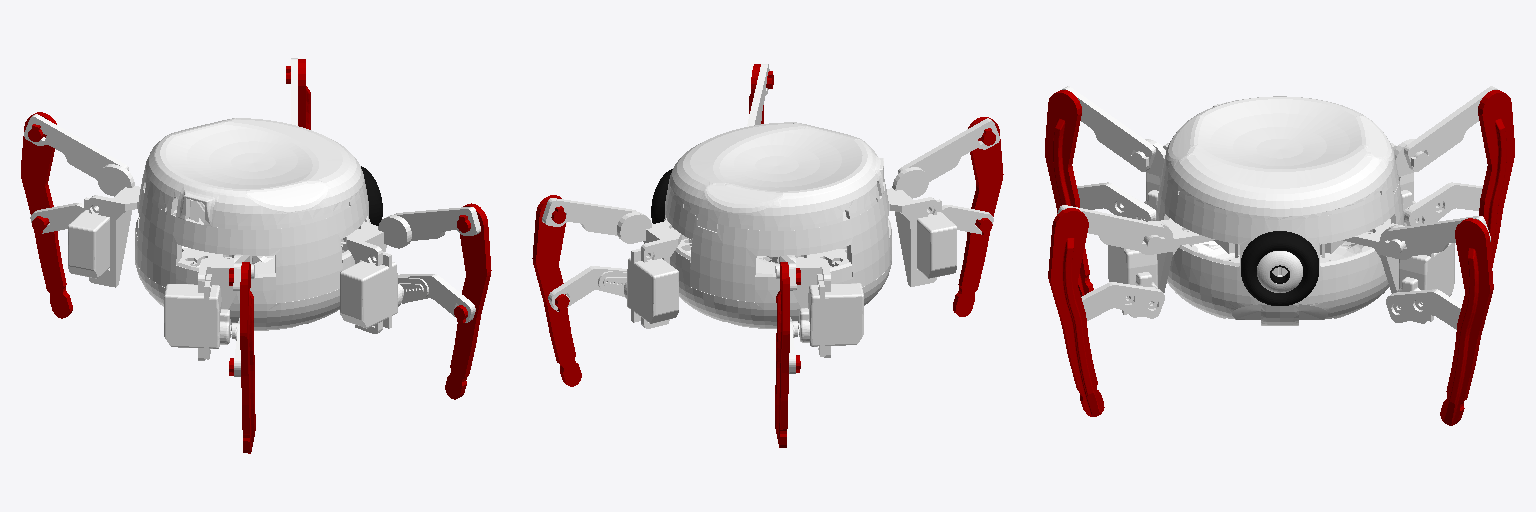
URDF robot description (piobs_simu):
<robot
  name="piobs_simu">
  <link
    name="base_link">
    <inertial>
      <origin
        xyz="-0.000150183923590687 1.69116954767376E-05 0.00723274427870838"
        rpy="0 0 0" />
      <mass
        value="0.0738859694947493" />
      <inertia
        ixx="8.5546067944523E-05"
        ixy="-1.06600940569947E-07"
        ixz="-8.67458695956049E-07"
        iyy="8.18362443634058E-05"
        iyz="3.9684721724115E-08"
        izz="0.00010541853902672" />
    </inertial>
    <visual>
      <origin
        xyz="0 0 0"
        rpy="0 0 0" />
      <geometry>
        <mesh
          filename="package://piobs_simu/meshes/base_link.STL" />
      </geometry>
      <material
        name="">
        <color
          rgba="1 1 1 1" />
      </material>
    </visual>
    <collision>
      <origin
        xyz="0 0 0"
        rpy="0 0 0" />
      <geometry>
        <mesh
          filename="package://piobs_simu/meshes/base_link.STL" />
      </geometry>
    </collision>
  </link>
  <link
    name="art1">
    <inertial>
      <origin
        xyz="0.0062378411825506 0.0277102239016137 -0.0156338015463188"
        rpy="0 0 0" />
      <mass
        value="0.0108144783273012" />
      <inertia
        ixx="2.00565738864332E-06"
        ixy="-1.70793666387837E-07"
        ixz="1.39902596356337E-07"
        iyy="1.61307577755607E-06"
        iyz="-5.1091854883014E-07"
        izz="1.39781914495636E-06" />
    </inertial>
    <visual>
      <origin
        xyz="0 0 0"
        rpy="0 0 0" />
      <geometry>
        <mesh
          filename="package://piobs_simu/meshes/art1.STL" />
      </geometry>
      <material
        name="">
        <color
          rgba="1 1 1 1" />
      </material>
    </visual>
    <collision>
      <origin
        xyz="0 0 0"
        rpy="0 0 0" />
      <geometry>
        <mesh
          filename="package://piobs_simu/meshes/art1.STL" />
      </geometry>
    </collision>
  </link>
  <joint
    name="Joint_art1"
    type="revolute">
    <origin
      xyz="0.023258 0.023889 0.0158"
      rpy="-1.9342E-16 2.949E-17 -6.0231E-15" />
    <parent
      link="base_link" />
    <child
      link="art1" />
    <axis
      xyz="0 0 -1" />
    <limit
      lower="-0.3"
      upper="1"
      effort="0"
      velocity="0" />
  </joint>
  <link
    name="inter1">
    <inertial>
      <origin
        xyz="0.00740343648010013 0.0107974598495289 0.00264747782092284"
        rpy="0 0 0" />
      <mass
        value="0.00135978929440388" />
      <inertia
        ixx="1.35503474513346E-07"
        ixy="7.26462673606028E-08"
        ixz="4.7797782102251E-09"
        iyy="6.57017703631588E-08"
        iyz="6.72775895356313E-09"
        izz="1.65488029781927E-07" />
    </inertial>
    <visual>
      <origin
        xyz="0 0 0"
        rpy="0 0 0" />
      <geometry>
        <mesh
          filename="package://piobs_simu/meshes/inter1.STL" />
      </geometry>
      <material
        name="">
        <color
          rgba="1 1 1 1" />
      </material>
    </visual>
    <collision>
      <origin
        xyz="0 0 0"
        rpy="0 0 0" />
      <geometry>
        <mesh
          filename="package://piobs_simu/meshes/inter1.STL" />
      </geometry>
    </collision>
  </link>
  <joint
    name="Joint_inter1"
    type="revolute">
    <origin
      xyz="0.021377 0.022876 -0.02515"
      rpy="6.9215E-16 -7.0777E-16 -2.982E-16" />
    <parent
      link="art1" />
    <child
      link="inter1" />
    <axis
      xyz="0.86603 -0.5 0" />
    <limit
      lower="-2.65"
      upper="0.95"
      effort="0"
      velocity="0" />
  </joint>
  <link
    name="leg1">
    <inertial>
      <origin
        xyz="0.00141462853397566 -0.000430263062171768 0.00683609703050882"
        rpy="0 0 0" />
      <mass
        value="0.00349858278339964" />
      <inertia
        ixx="2.20085310677661E-06"
        ixy="2.34643116992895E-08"
        ixz="1.00887381759997E-07"
        iyy="2.17074316536988E-06"
        iyz="2.26080118705019E-07"
        izz="7.71498616791453E-08" />
    </inertial>
    <visual>
      <origin
        xyz="0 0 0"
        rpy="0 0 0" />
      <geometry>
        <mesh
          filename="package://piobs_simu/meshes/leg1.STL" />
      </geometry>
      <material
        name="">
        <color
          rgba="0.752941176470588 0 0 1" />
      </material>
    </visual>
    <collision>
      <origin
        xyz="0 0 0"
        rpy="0 0 0" />
      <geometry>
        <mesh
          filename="package://piobs_simu/meshes/leg1.STL" />
      </geometry>
    </collision>
  </link>
  <joint
    name="Joint_leg1"
    type="revolute">
    <origin
      xyz="0.019098 0.027079 0"
      rpy="-1.5552E-15 1.5821E-15 2.0714E-15" />
    <parent
      link="inter1" />
    <child
      link="leg1" />
    <axis
      xyz="-0.86603 0.5 0" />
    <limit
      lower="-1.57"
      upper="1.57"
      effort="0"
      velocity="0" />
    <mimic joint="Joint_inter1" multiplier="-1.0" offset="0.0" />
  </joint>
  <link
    name="inter1h">
    <inertial>
      <origin
        xyz="0.00973454261047613 0.0138607223897888 0.00758536813275736"
        rpy="0 0 0" />
      <mass
        value="0.00130705655681447" />
      <inertia
        ixx="1.76237970120405E-07"
        ixy="7.77102178286575E-08"
        ixz="3.28405627718515E-08"
        iyy="8.65059397560856E-08"
        iyz="5.68815232700017E-08"
        izz="1.81424645563861E-07" />
    </inertial>
    <visual>
      <origin
        xyz="0 0 0"
        rpy="0 0 0" />
      <geometry>
        <mesh
          filename="package://piobs_simu/meshes/inter1h.STL" />
      </geometry>
      <material
        name="">
        <color
          rgba="1 1 1 1" />
      </material>
    </visual>
    <collision>
      <origin
        xyz="0 0 0"
        rpy="0 0 0" />
      <geometry>
        <mesh
          filename="package://piobs_simu/meshes/inter1h.STL" />
      </geometry>
    </collision>
  </link>
  <joint
    name="Joint_inter1h"
    type="revolute">
    <origin
      xyz="0.021377 0.022876 0.0018"
      rpy="2.3939E-16 -4.6838E-17 -2.7733E-15" />
    <parent
      link="art1" />
    <child
      link="inter1h" />
    <axis
      xyz="0.86603 -0.5 0" />
    <limit
      lower="-1.57"
      upper="1.57"
      effort="0"
      velocity="0" />
    <mimic joint="Joint_inter1" multiplier="-1.0" offset="0.0" />
  </joint>
  <link
    name="art2">
    <inertial>
      <origin
        xyz="-0.0224777663889105 0.0173642523652234 -0.0156338039059797"
        rpy="0 0 0" />
      <mass
        value="0.0108144806208301" />
      <inertia
        ixx="1.55235820224944E-06"
        ixy="-4.05834318783446E-08"
        ixz="5.22174875344558E-07"
        iyy="2.06637574050955E-06"
        iyz="-8.91289182685685E-08"
        izz="1.39781931097156E-06" />
    </inertial>
    <visual>
      <origin
        xyz="0 0 0"
        rpy="0 0 0" />
      <geometry>
        <mesh
          filename="package://piobs_simu/meshes/art2.STL" />
      </geometry>
      <material
        name="">
        <color
          rgba="1 1 1 1" />
      </material>
    </visual>
    <collision>
      <origin
        xyz="0 0 0"
        rpy="0 0 0" />
      <geometry>
        <mesh
          filename="package://piobs_simu/meshes/art2.STL" />
      </geometry>
    </collision>
  </link>
  <joint
    name="Joint_art2"
    type="revolute">
    <origin
      xyz="-0.023889 0.023258 0.0158"
      rpy="1.5439E-15 1.7521E-15 -6.0631E-15" />
    <parent
      link="base_link" />
    <child
      link="art2" />
    <axis
      xyz="0 0 -1" />
    <limit
      lower="-0.7"
      upper="0.65"
      effort="0"
      velocity="0" />
  </joint>
  <link
    name="inter2">
    <inertial>
      <origin
        xyz="-0.00665699240608806 0.0112729910450089 0.00264747684359977"
        rpy="0 0 0" />
      <mass
        value="0.00135978987670813" />
      <inertia
        ixx="1.33819137121723E-07"
        ixy="-7.34317564845056E-08"
        ixz="-4.07740451776354E-09"
        iyy="6.73862089395131E-08"
        iyz="7.17523793144052E-09"
        izz="1.65488117690615E-07" />
    </inertial>
    <visual>
      <origin
        xyz="0 0 0"
        rpy="0 0 0" />
      <geometry>
        <mesh
          filename="package://piobs_simu/meshes/inter2.STL" />
      </geometry>
      <material
        name="">
        <color
          rgba="1 1 1 1" />
      </material>
    </visual>
    <collision>
      <origin
        xyz="0 0 0"
        rpy="0 0 0" />
      <geometry>
        <mesh
          filename="package://piobs_simu/meshes/inter2.STL" />
      </geometry>
    </collision>
  </link>
  <joint
    name="Joint_inter2"
    type="revolute">
    <origin
      xyz="-0.011699 0.029042 -0.02515"
      rpy="-2.4329E-15 -1.7451E-15 1.4339E-17" />
    <parent
      link="art2" />
    <child
      link="inter2" />
    <axis
      xyz="0.81915 0.57358 0" />
    <limit
      lower="-2.65"
      upper="0.95"
      effort="0"
      velocity="0" />
  </joint>
  <link
    name="leg2">
    <inertial>
      <origin
        xyz="0.000987798635406129 0.00110025176352489 0.00683609405525077"
        rpy="0 0 0" />
      <mass
        value="0.00349858320009664" />
      <inertia
        ixx="2.19409600530062E-06"
        ixy="-2.66153433322379E-08"
        ixz="-1.62261332220827E-07"
        iyy="2.17750089051935E-06"
        iyz="1.86980606695749E-07"
        izz="7.71498550031368E-08" />
    </inertial>
    <visual>
      <origin
        xyz="0 0 0"
        rpy="0 0 0" />
      <geometry>
        <mesh
          filename="package://piobs_simu/meshes/leg2.STL" />
      </geometry>
      <material
        name="">
        <color
          rgba="0.752941176470588 0 0 1" />
      </material>
    </visual>
    <collision>
      <origin
        xyz="0 0 0"
        rpy="0 0 0" />
      <geometry>
        <mesh
          filename="package://piobs_simu/meshes/leg2.STL" />
      </geometry>
    </collision>
  </link>
  <joint
    name="Joint_leg2"
    type="revolute">
    <origin
      xyz="-0.016471 0.028753 0"
      rpy="4.0506E-16 -1.3531E-16 -4.0686E-16" />
    <parent
      link="inter2" />
    <child
      link="leg2" />
    <axis
      xyz="-0.81915 -0.57358 0" />
    <limit
      lower="-1.57"
      upper="1.57"
      effort="0"
      velocity="0" />
    <mimic joint="Joint_inter2" multiplier="-1.0" offset="0.0" />
  </joint>
  <link
    name="inter2h">
    <inertial>
      <origin
        xyz="-0.00844808515893885 0.0146802861739574 0.00758536813275734"
        rpy="0 0 0" />
      <mass
        value="0.00130705655681447" />
      <inertia
        ixx="1.62062116824351E-07"
        ixy="-8.4320526781489E-08"
        ixz="-3.76731459248835E-08"
        iyy="1.0068179305214E-07"
        iyz="5.38028282603258E-08"
        izz="1.81424645563861E-07" />
    </inertial>
    <visual>
      <origin
        xyz="0 0 0"
        rpy="0 0 0" />
      <geometry>
        <mesh
          filename="package://piobs_simu/meshes/inter2h.STL" />
      </geometry>
      <material
        name="">
        <color
          rgba="1 1 1 1" />
      </material>
    </visual>
    <collision>
      <origin
        xyz="0 0 0"
        rpy="0 0 0" />
      <geometry>
        <mesh
          filename="package://piobs_simu/meshes/inter2h.STL" />
      </geometry>
    </collision>
  </link>
  <joint
    name="Joint_inter2h"
    type="revolute">
    <origin
      xyz="-0.011699 0.029042 0.0018"
      rpy="-9.7058E-16 -1.7035E-15 1.3741E-15" />
    <parent
      link="art2" />
    <child
      link="inter2h" />
    <axis
      xyz="0.81915 0.57358 0" />
    <limit
      lower="-1.57"
      upper="1.57"
      effort="0"
      velocity="0" />
      <mimic joint="Joint_inter2" multiplier="-1.0" offset="0.0" />
  </joint>
  <link
    name="art3">
    <inertial>
      <origin
        xyz="-0.0224777650381663 -0.0173642506579196 -0.0156338039185827"
        rpy="0 0 0" />
      <mass
        value="0.010814480540916" />
      <inertia
        ixx="1.55235834142788E-06"
        ixy="4.05832763833904E-08"
        ixz="5.22174814196587E-07"
        iyy="2.06637543468729E-06"
        iyz="8.91288409759164E-08"
        izz="1.39781914283596E-06" />
    </inertial>
    <visual>
      <origin
        xyz="0 0 0"
        rpy="0 0 0" />
      <geometry>
        <mesh
          filename="package://piobs_simu/meshes/art3.STL" />
      </geometry>
      <material
        name="">
        <color
          rgba="1 1 1 1" />
      </material>
    </visual>
    <collision>
      <origin
        xyz="0 0 0"
        rpy="0 0 0" />
      <geometry>
        <mesh
          filename="package://piobs_simu/meshes/art3.STL" />
      </geometry>
    </collision>
  </link>
  <joint
    name="Joint_art3"
    type="revolute">
    <origin
      xyz="-0.023889 -0.023258 0.0158"
      rpy="3.6256E-15 3.8389E-15 -6.0501E-15" />
    <parent
      link="base_link" />
    <child
      link="art3" />
    <axis
      xyz="0 0 1" />
    <limit
      lower="-0.7"
      upper="0.65"
      effort="0"
      velocity="0" />
  </joint>
  <link
    name="inter3">
    <inertial>
      <origin
        xyz="-0.00665699379083021 -0.0112729942141482 0.00264747749005476"
        rpy="0 0 0" />
      <mass
        value="0.0013597894910097" />
      <inertia
        ixx="1.33819084087701E-07"
        ixy="7.34317351534421E-08"
        ixz="-4.07740069579114E-09"
        iyy="6.73861951808813E-08"
        iyz="-7.17522875082714E-09"
        izz="1.65488059681542E-07" />
    </inertial>
    <visual>
      <origin
        xyz="0 0 0"
        rpy="0 0 0" />
      <geometry>
        <mesh
          filename="package://piobs_simu/meshes/inter3.STL" />
      </geometry>
      <material
        name="">
        <color
          rgba="1 1 1 1" />
      </material>
    </visual>
    <collision>
      <origin
        xyz="0 0 0"
        rpy="0 0 0" />
      <geometry>
        <mesh
          filename="package://piobs_simu/meshes/inter3.STL" />
      </geometry>
    </collision>
  </link>
  <joint
    name="Joint_inter3"
    type="revolute">
    <origin
      xyz="-0.011699 -0.029042 -0.02515"
      rpy="-5.7176E-15 -9.3502E-16 -1.4961E-15" />
    <parent
      link="art3" />
    <child
      link="inter3" />
    <axis
      xyz="-0.81915 0.57358 0" />
    <limit
      lower="-2.65"
      upper="0.95"
      effort="0"
      velocity="0" />
  </joint>
  <link
    name="leg3">
    <inertial>
      <origin
        xyz="0.000991293190433291 -0.00109536177534356 0.006799313222049"
        rpy="0 0 0" />
      <mass
        value="0.00350190561973382" />
      <inertia
        ixx="2.19920911817852E-06"
        ixy="2.66931162252511E-08"
        ixz="-1.62729982465043E-07"
        iyy="2.18256011627768E-06"
        iyz="-1.87636416525044E-07"
        izz="7.73194742404063E-08" />
    </inertial>
    <visual>
      <origin
        xyz="0 0 0"
        rpy="0 0 0" />
      <geometry>
        <mesh
          filename="package://piobs_simu/meshes/leg3.STL" />
      </geometry>
      <material
        name="">
        <color
          rgba="0.752941176470588 0 0 1" />
      </material>
    </visual>
    <collision>
      <origin
        xyz="0 0 0"
        rpy="0 0 0" />
      <geometry>
        <mesh
          filename="package://piobs_simu/meshes/leg3.STL" />
      </geometry>
    </collision>
  </link>
  <joint
    name="Joint_leg3"
    type="revolute">
    <origin
      xyz="-0.016471 -0.028753 0"
      rpy="2.2586E-15 -3.4295E-15 2.3548E-15" />
    <parent
      link="inter3" />
    <child
      link="leg3" />
    <axis
      xyz="0.81915 -0.57358 0" />
    <limit
      lower="-1.57"
      upper="1.57"
      effort="0"
      velocity="0" />
    <mimic joint="Joint_inter3" multiplier="-1.0" offset="0.0" />
  </joint>
  <link
    name="inter3h">
    <inertial>
      <origin
        xyz="-0.0109055412918058 -0.0129595568649043 0.00758536813275726"
        rpy="0 0 0" />
      <mass
        value="0.00130705655681447" />
      <inertia
        ixx="1.62062116824352E-07"
        ixy="8.43205267814889E-08"
        ixz="-3.76731459248828E-08"
        iyy="1.00681793052138E-07"
        iyz="-5.38028282603255E-08"
        izz="1.81424645563862E-07" />
    </inertial>
    <visual>
      <origin
        xyz="0 0 0"
        rpy="0 0 0" />
      <geometry>
        <mesh
          filename="package://piobs_simu/meshes/inter3h.STL" />
      </geometry>
      <material
        name="">
        <color
          rgba="1 1 1 1" />
      </material>
    </visual>
    <collision>
      <origin
        xyz="0 0 0"
        rpy="0 0 0" />
      <geometry>
        <mesh
          filename="package://piobs_simu/meshes/inter3h.STL" />
      </geometry>
    </collision>
  </link>
  <joint
    name="Joint_inter3h"
    type="revolute">
    <origin
      xyz="-0.0092411 -0.030763 0.0018"
      rpy="-3.5623E-15 -3.8771E-15 -3.7513E-15" />
    <parent
      link="art3" />
    <child
      link="inter3h" />
    <axis
      xyz="-0.81915 0.57358 0" />
    <limit
      lower="-1.57"
      upper="1.57"
      effort="0"
      velocity="0" />
      <mimic joint="Joint_inter3" multiplier="-1.0" offset="0.0" />
  </joint>
  <link
    name="art4">
    <inertial>
      <origin
        xyz="0.00133124478792326 -0.0283724322273375 -0.0156338039142436"
        rpy="0 0 0" />
      <mass
        value="0.010814480720339" />
      <inertia
        ixx="1.93540479225721E-06"
        ixy="2.27628752214218E-07"
        ixz="2.26497114294371E-07"
        iyy="1.68332900286192E-06"
        iyz="4.78862762155124E-07"
        izz="1.39781916118468E-06" />
    </inertial>
    <visual>
      <origin
        xyz="0 0 0"
        rpy="0 0 0" />
      <geometry>
        <mesh
          filename="package://piobs_simu/meshes/art4.STL" />
      </geometry>
      <material
        name="">
        <color
          rgba="1 1 1 1" />
      </material>
    </visual>
    <collision>
      <origin
        xyz="0 0 0"
        rpy="0 0 0" />
      <geometry>
        <mesh
          filename="package://piobs_simu/meshes/art4.STL" />
      </geometry>
    </collision>
  </link>
  <joint
    name="Joint_art4"
    type="revolute">
    <origin
      xyz="0.023258 -0.023889 0.0158"
      rpy="-3.6603E-16 1.8735E-16 -6.0242E-15" />
    <parent
      link="base_link" />
    <child
      link="art4" />
    <axis
      xyz="0 0 1" />
    <limit
      lower="-0.2"
      upper="1.15"
      effort="0"
      velocity="0" />
  </joint>
  <link
    name="inter4">
    <inertial>
      <origin
        xyz="0.005416 -0.011919 0.0026475"
        rpy="0 0 0" />
      <mass
        value="0.0013598" />
      <inertia
        ixx="1.5825E-07"
        ixy="-5.6328E-08"
        ixz="3.5389E-09"
        iyy="4.296E-08"
        iyz="-7.4555E-09"
        izz="1.6549E-07" />
    </inertial>
    <visual>
      <origin
        xyz="0 0 0"
        rpy="0 0 0" />
      <geometry>
        <mesh
          filename="package://piobs_simu/meshes/inter4.STL" />
      </geometry>
      <material
        name="">
        <color
          rgba="1 1 1 1" />
      </material>
    </visual>
    <collision>
      <origin
        xyz="0 0 0"
        rpy="0 0 0" />
      <geometry>
        <mesh
          filename="package://piobs_simu/meshes/inter4.STL" />
      </geometry>
    </collision>
  </link>
  <joint
    name="Joint_inter4"
    type="revolute">
    <origin
      xyz="0.01708 -0.026241 -0.02515"
      rpy="3.5128E-16 -6.8001E-16 1.423E-15" />
    <parent
      link="art4" />
    <child
      link="inter4" />
    <axis
      xyz="-0.93969 -0.34202 0" />
    <limit
      lower="-2.65"
      upper="0.95"
      effort="0"
      velocity="0" />
  </joint>
  <link
    name="leg4">
    <inertial>
      <origin
        xyz="0.0014658 0.00018375 0.0067993"
        rpy="0 0 0" />
      <mass
        value="0.0035019" />
      <inertia
        ixx="2.2131E-06"
        ixy="-1.6952E-08"
        ixz="6.0365E-08"
        iyy="2.1686E-06"
        iyz="-2.4092E-07"
        izz="7.732E-08" />
    </inertial>
    <visual>
      <origin
        xyz="0 0 0"
        rpy="0 0 0" />
      <geometry>
        <mesh
          filename="package://piobs_simu/meshes/leg4.STL" />
      </geometry>
      <material
        name="">
        <color
          rgba="0.75294 0 0 1" />
      </material>
    </visual>
    <collision>
      <origin
        xyz="0 0 0"
        rpy="0 0 0" />
      <geometry>
        <mesh
          filename="package://piobs_simu/meshes/leg4.STL" />
      </geometry>
    </collision>
  </link>
  <joint
    name="Joint_leg4"
    type="revolute">
    <origin
      xyz="0.014106 -0.029984 0"
      rpy="-1.2499E-15 8.5869E-16 -1.4731E-15" />
    <parent
      link="inter4" />
    <child
      link="leg4" />
    <axis
      xyz="0.93969 0.34202 0" />
    <limit
      lower="-1.57"
      upper="1.57"
      effort="0"
      velocity="0" />
    <mimic joint="Joint_inter4" multiplier="-1.0" offset="0.0" />
  </joint>
  <link
    name="inter4h">
    <inertial>
      <origin
        xyz="0.0071798 -0.015341 0.0075854"
        rpy="0 0 0" />
      <mass
        value="0.0013071" />
      <inertia
        ixx="2.0011E-07"
        ixy="-5.7679E-08"
        ixz="2.2464E-08"
        iyy="6.2633E-08"
        iyz="-6.172E-08"
        izz="1.8142E-07" />
    </inertial>
    <visual>
      <origin
        xyz="0 0 0"
        rpy="0 0 0" />
      <geometry>
        <mesh
          filename="package://piobs_simu/meshes/inter4h.STL" />
      </geometry>
      <material
        name="">
        <color
          rgba="1 1 1 1" />
      </material>
    </visual>
    <collision>
      <origin
        xyz="0 0 0"
        rpy="0 0 0" />
      <geometry>
        <mesh
          filename="package://piobs_simu/meshes/inter4h.STL" />
      </geometry>
    </collision>
  </link>
  <joint
    name="Joint_inter4h"
    type="revolute">
    <origin
      xyz="0.01708 -0.026241 0.0018"
      rpy="4.7271E-16 -1.7174E-16 -1.3841E-15" />
    <parent
      link="art4" />
    <child
      link="inter4h" />
    <axis
      xyz="-0.93969 -0.34202 0" />
    <limit
      lower="-1.57"
      upper="1.57"
      effort="0"
      velocity="0" />
      <mimic joint="Joint_inter4" multiplier="-1.0" offset="0.0" />
  </joint>
  <link
    name="optic">
    <inertial>
      <origin
        xyz="-0.0044339 1.3021E-08 -0.00016633"
        rpy="0 0 0" />
      <mass
        value="0.0030505" />
      <inertia
        ixx="4.6741E-07"
        ixy="-2.726E-13"
        ixz="3.8744E-09"
        iyy="2.507E-07"
        iyz="-2.8028E-12"
        izz="2.5334E-07" />
    </inertial>
    <visual>
      <origin
        xyz="0 0 0"
        rpy="0 0 0" />
      <geometry>
        <mesh
          filename="package://piobs_simu/meshes/optic.STL" />
      </geometry>
      <material
        name="">
        <color
          rgba="0.1098 0.1098 0.1098 1" />
      </material>
    </visual>
    <collision>
      <origin
        xyz="0 0 0"
        rpy="0 0 0" />
      <geometry>
        <mesh
          filename="package://piobs_simu/meshes/optic.STL" />
      </geometry>
    </collision>
  </link>
  <joint
    name="Joint_optic"
    type="fixed">
    <origin
      xyz="0.05375 0 0.0084"
      rpy="2.1597E-16 -5.9501E-16 -6.2407E-15" />
    <parent
      link="base_link" />
    <child
      link="optic" />
    <axis
      xyz="0 0 0" />
  </joint>
</robot>

--- Facts derived from the render (not from the file) ---
Views: 3 orthographic renders of the robot side by side, from view 1: azimuth 30°, elevation 25°; view 2: azimuth 150°, elevation 25°; view 3: azimuth 270°, elevation 25°.
Model piobs_simu with 18 links and 17 joints (16 revolute, 1 fixed), rooted at base_link, posed all joints at 0.
Visible links, largest first — view 1: base_link, art4, art2, art3, leg2, leg4, leg3, inter2h, inter4, inter4h, inter2, leg1 (+1 smaller); view 2: base_link, art3, art1, art2, leg1, leg3, leg2, inter3h, inter1h, inter1, inter3, inter4h (+1 smaller); view 3: base_link, leg4, leg1, leg2, leg3, art1, optic, art4, inter4, inter2h, inter3h, inter4h (+6 smaller).
Boxes of the visible links, left/top/right/bottom form: base_link: left=135, top=118, right=370, bottom=330; art4: left=340, top=215, right=411, bottom=333; art2: left=68, top=164, right=140, bottom=287; art3: left=164, top=253, right=254, bottom=360; leg2: left=21, top=112, right=72, bottom=318; leg4: left=445, top=203, right=491, bottom=399; leg3: left=229, top=262, right=255, bottom=453; inter2h: left=24, top=114, right=128, bottom=179; inter4: left=398, top=274, right=475, bottom=322; inter4h: left=394, top=207, right=480, bottom=240; inter2: left=30, top=203, right=83, bottom=233; leg1: left=286, top=59, right=310, bottom=129; base_link: left=664, top=122, right=891, bottom=328; art3: left=845, top=167, right=956, bottom=286; art1: left=617, top=212, right=687, bottom=328; art2: left=775, top=253, right=863, bottom=357; leg1: left=532, top=195, right=581, bottom=386; leg3: left=953, top=117, right=1003, bottom=316; leg2: left=775, top=262, right=800, bottom=447; inter3h: left=898, top=118, right=999, bottom=181; inter1h: left=542, top=198, right=636, bottom=235; inter1: left=548, top=266, right=626, bottom=311; inter3: left=942, top=205, right=993, bottom=234; inter4h: left=747, top=64, right=769, bottom=126; base_link: left=1156, top=96, right=1404, bottom=325; leg4: left=1048, top=208, right=1104, bottom=416; leg1: left=1440, top=218, right=1493, bottom=425; leg2: left=1464, top=90, right=1514, bottom=296; leg3: left=1045, top=90, right=1093, bottom=296; art1: left=1343, top=223, right=1454, bottom=323; optic: left=1241, top=231, right=1318, bottom=305; art4: left=1108, top=220, right=1214, bottom=317; inter4: left=1081, top=282, right=1164, bottom=320; inter2h: left=1404, top=86, right=1497, bottom=171; inter3h: left=1062, top=86, right=1155, bottom=171; inter4h: left=1057, top=205, right=1165, bottom=253.
Bounding box of the posed robot: 0.1362 × 0.1825 × 0.0938 m (x, y, z).
18 mesh visuals loaded from 18 distinct referenced files (18 binary STL).